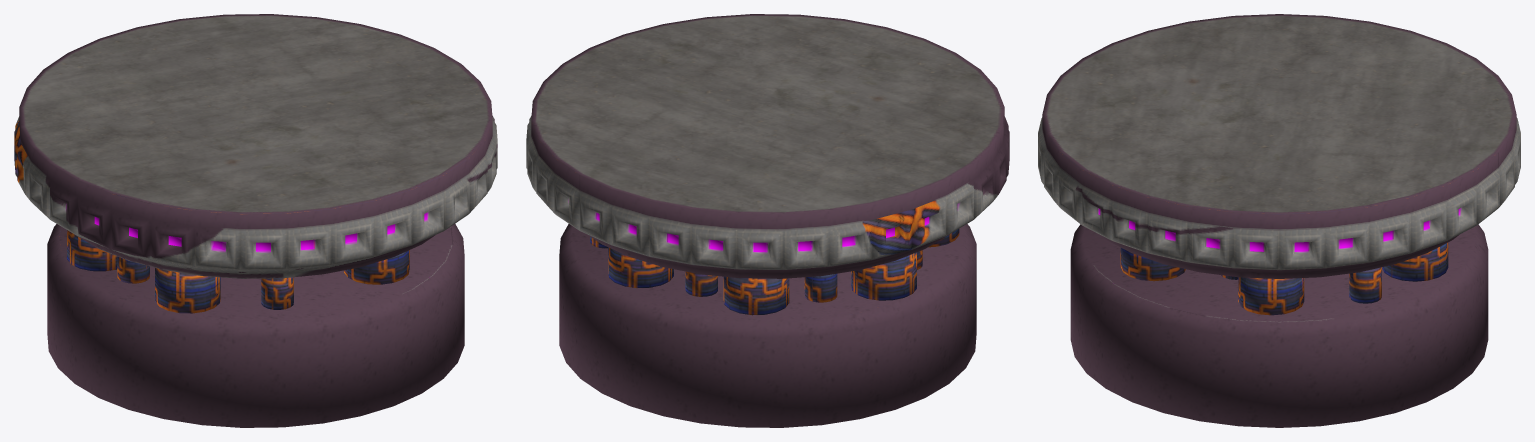
File: arena.fbx
3 views of the same model, side by side, from view 1: azimuth 30°, elevation 25°; view 2: azimuth 150°, elevation 25°; view 3: azimuth 270°, elevation 25° (orthographic).
Visible parts, largest first — view 1: Cylinder; view 2: Cylinder; view 3: Cylinder.
Part boxes in pixels (left/top/right/bottom): Cylinder: left=14, top=14, right=497, bottom=427; Cylinder: left=526, top=14, right=1009, bottom=427; Cylinder: left=1038, top=14, right=1520, bottom=427.
Bounding box in the file's own units: 12220 × 6298 × 12220.
